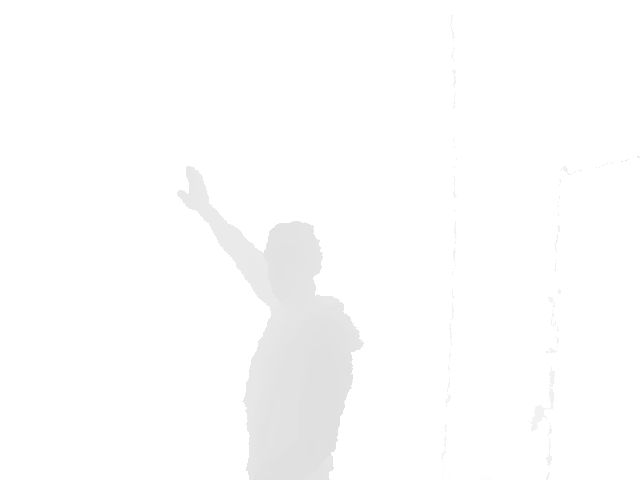hand: (176, 164, 223, 213)
head: (263, 220, 324, 305)
person: (176, 164, 364, 479)
